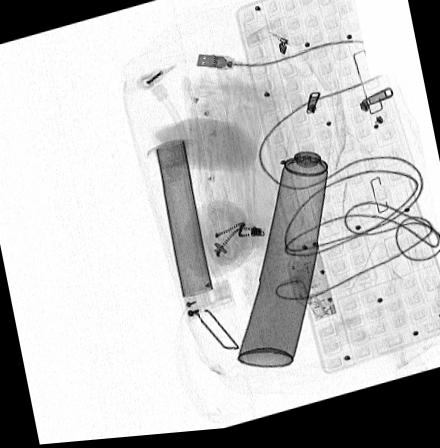Sprayer: (236, 134, 331, 372)
